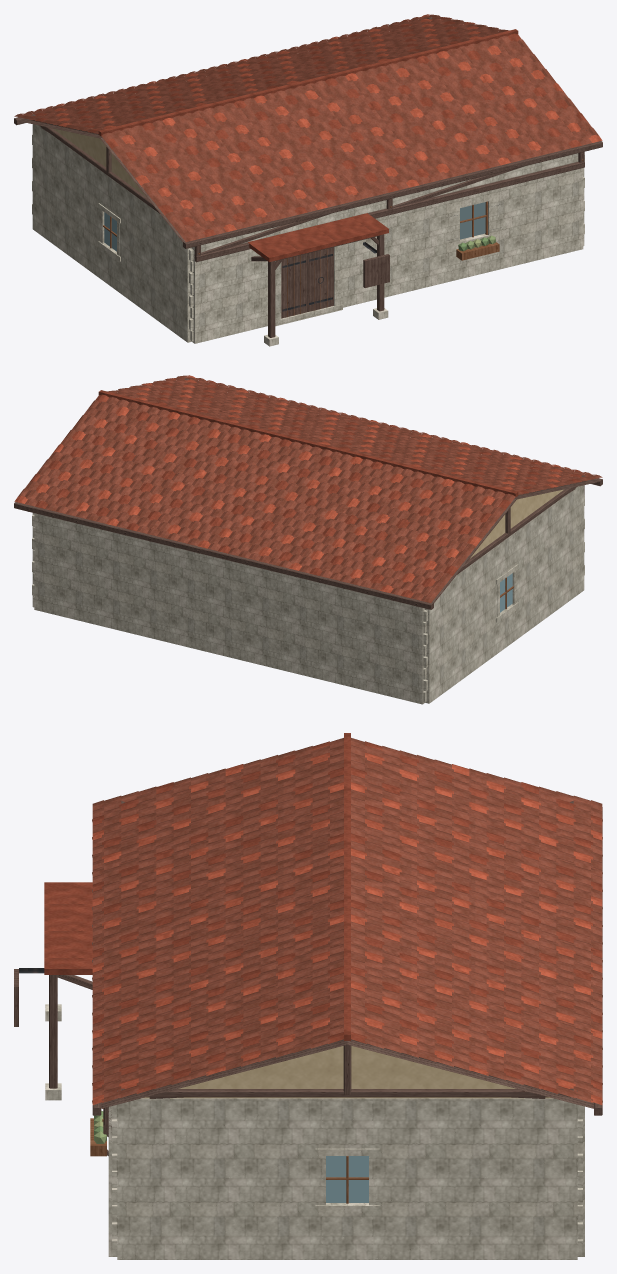
Rendered from B04_taller.glb.
3 renders of one model, top to bottom at view 1: azimuth 30°, elevation 25°; view 2: azimuth 150°, elevation 25°; view 3: azimuth 270°, elevation 25°, orthographic. The views are drawn at different scales.
Parts seen in each view (by area): view 1: AUR034_B04_clay_tiles, AUR034_B04_lower_masonry, AUR034_B04_porch_clay_roof, AUR034_B04_fascia-1, AUR034_B04_ridge, AUR034_B04_sill, AUR034_B04_entry_leaf1, AUR034_B04_entry_leaf0, AUR034_B04_gable-1, AUR034_B04_gable_tie-1, AUR034_B04_hanging_sign, AUR034_B04_roof_sheathing (+7 smaller); view 2: AUR034_B04_clay_tiles, AUR034_B04_lower_masonry, AUR034_B04_fascia1, AUR034_B04_ridge, AUR034_B04_gable-1, AUR034_B04_gable_tie-1, AUR034_B04_roof_sheathing, AUR034_B04_dressed_corner_stones; view 3: AUR034_B04_clay_tiles, AUR034_B04_lower_masonry, AUR034_B04_gable1, AUR034_B04_porch_clay_roof, AUR034_B04_gable_tie1, AUR034_B04_roof_sheathing, AUR034_B04_ridge, AUR034_B04_side_window1_0_glass, AUR034_B04_dressed_corner_stones, AUR034_B04_porch_post1.
Boxes of the visible parts, x1,y1,x2,y2 form: AUR034_B04_clay_tiles: (14,14,602,241); AUR034_B04_lower_masonry: (32,31,584,343); AUR034_B04_porch_clay_roof: (248,213,388,261); AUR034_B04_fascia-1: (183,141,602,248); AUR034_B04_ridge: (98,29,518,136); AUR034_B04_sill: (193,161,584,262); AUR034_B04_entry_leaf1: (307,247,333,311); AUR034_B04_entry_leaf0: (281,253,306,318); AUR034_B04_gable-1: (53,128,146,197); AUR034_B04_gable_tie-1: (31,114,185,228); AUR034_B04_hanging_sign: (363,254,389,287); AUR034_B04_roof_sheathing: (17,31,467,241); AUR034_B04_clay_tiles: (14,375,602,602); AUR034_B04_lower_masonry: (32,392,584,704); AUR034_B04_fascia1: (14,502,433,609); AUR034_B04_ridge: (98,390,518,497); AUR034_B04_gable-1: (470,489,563,558); AUR034_B04_gable_tie-1: (431,475,585,589); AUR034_B04_roof_sheathing: (149,392,599,602); AUR034_B04_dressed_corner_stones: (32,495,584,702); AUR034_B04_clay_tiles: (92,738,602,1104); AUR034_B04_lower_masonry: (108,1098,584,1259); AUR034_B04_gable1: (142,1046,552,1098); AUR034_B04_porch_clay_roof: (44,882,92,974); AUR034_B04_gable_tie1: (117,1088,577,1097); AUR034_B04_roof_sheathing: (101,1040,593,1108); AUR034_B04_ridge: (344,733,350,1040); AUR034_B04_side_window1_0_glass: (326,1156,368,1202); AUR034_B04_dressed_corner_stones: (112,1119,582,1255); AUR034_B04_porch_post1: (49,975,57,1088).
Bounding box in the file's own units: 13.96 × 5.05 × 11.51.
Materials: 13 (8 with a texture image).
